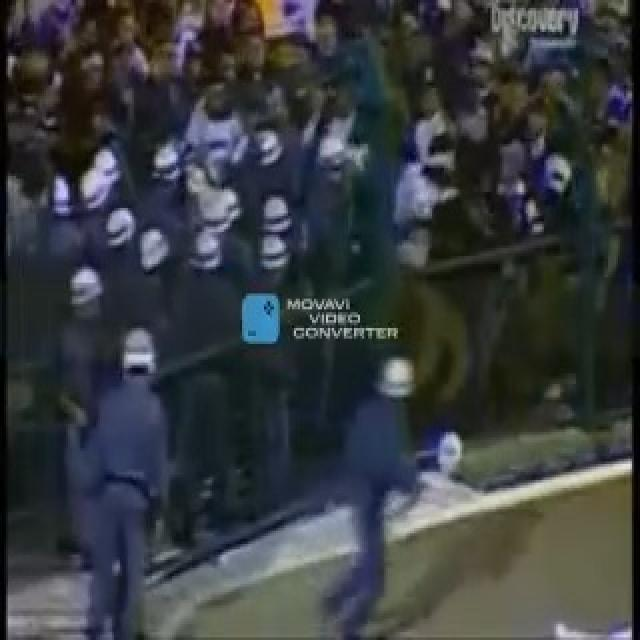non-voilence: (0, 0, 634, 637), (318, 352, 428, 637), (72, 326, 172, 638)
